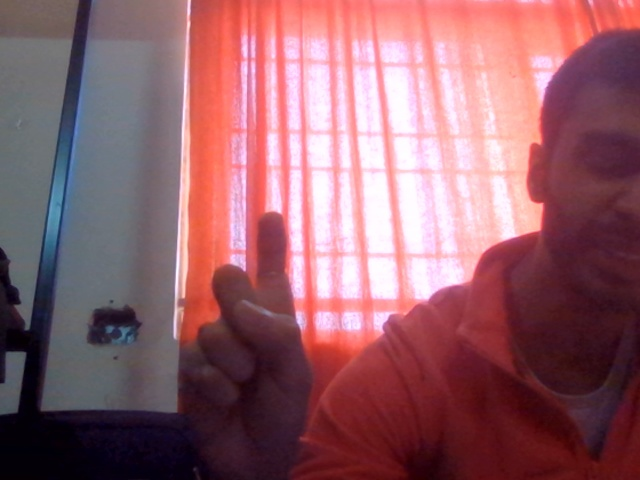X: (158, 185, 404, 480)
